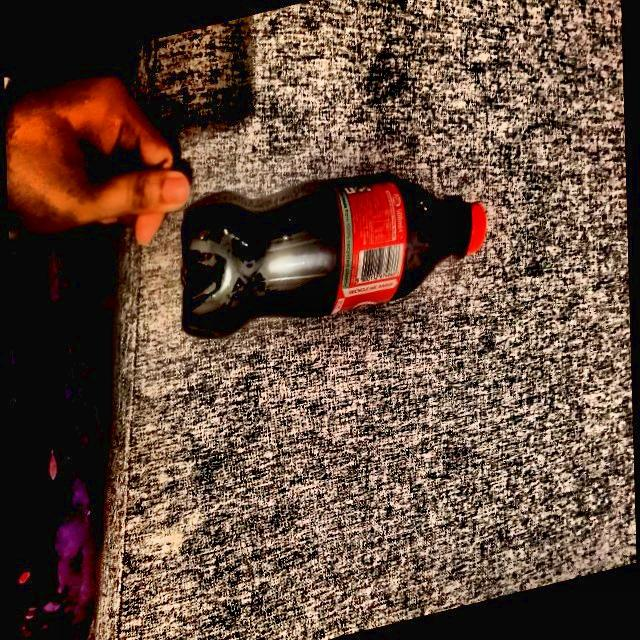coke-bottle: (172, 176, 488, 330)
